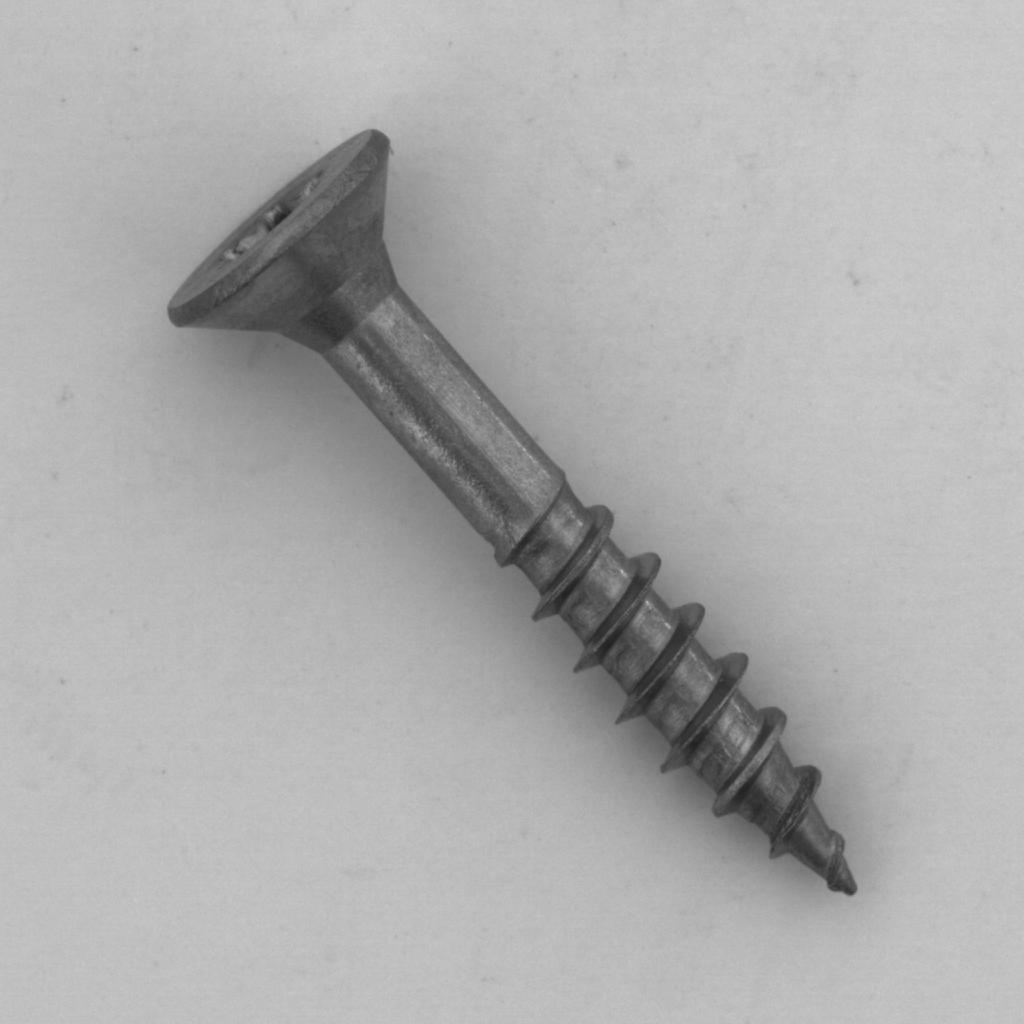good: (149, 117, 894, 924)
